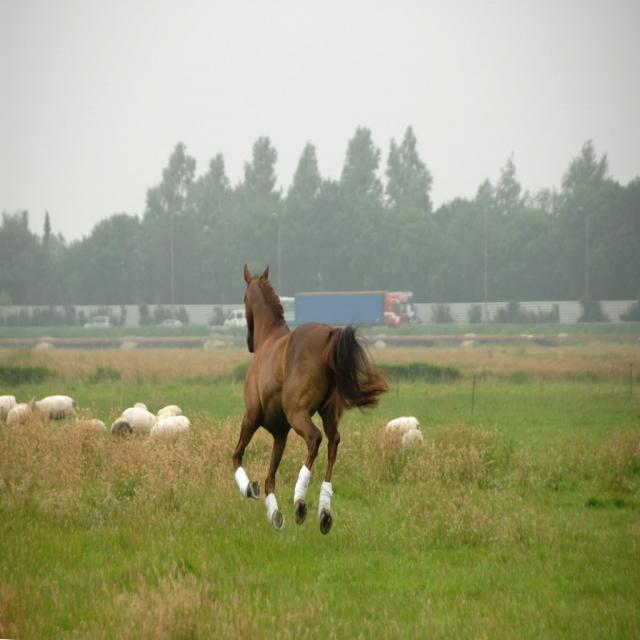Horse: (232, 262, 392, 537)
